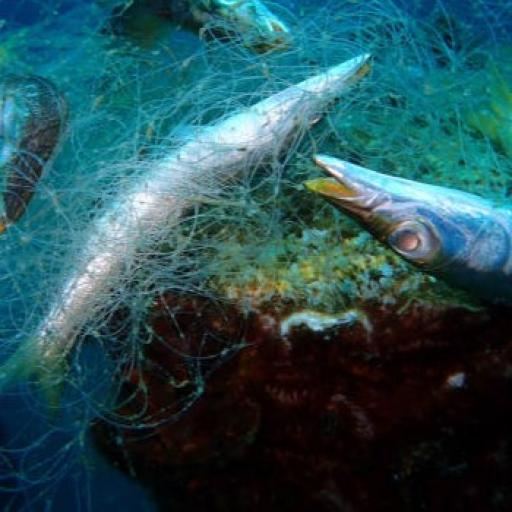net: (2, 0, 512, 465)
